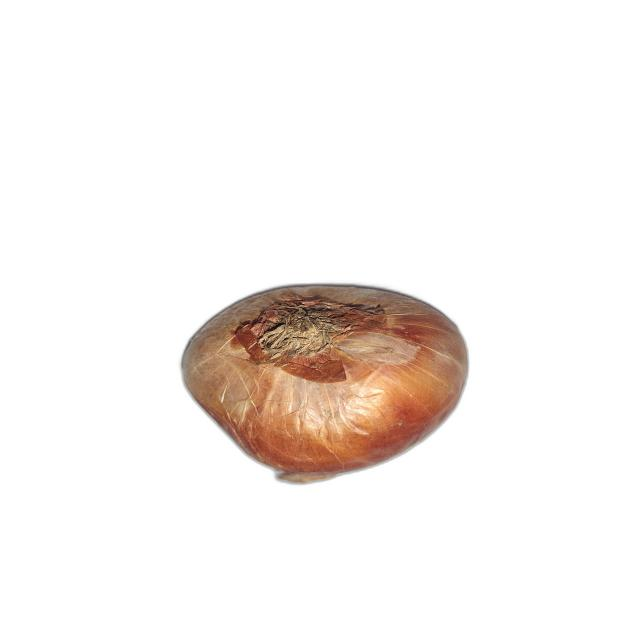onion: (181, 284, 469, 483)
